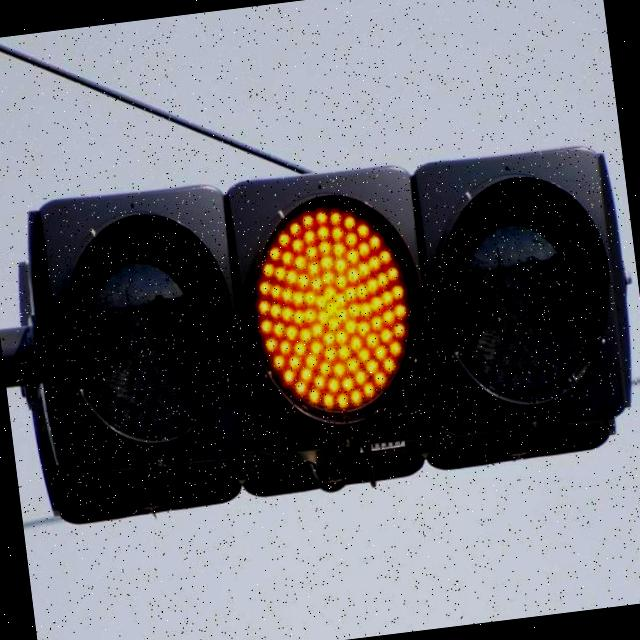yellow_light: (242, 163, 439, 454)
